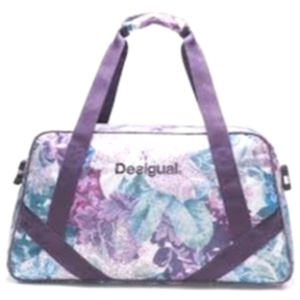desigual: (126, 78, 238, 235)
